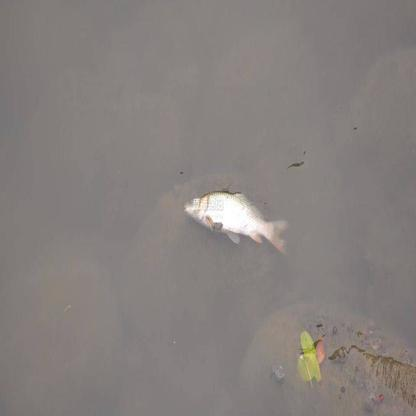deceased fish: (183, 188, 285, 254)
